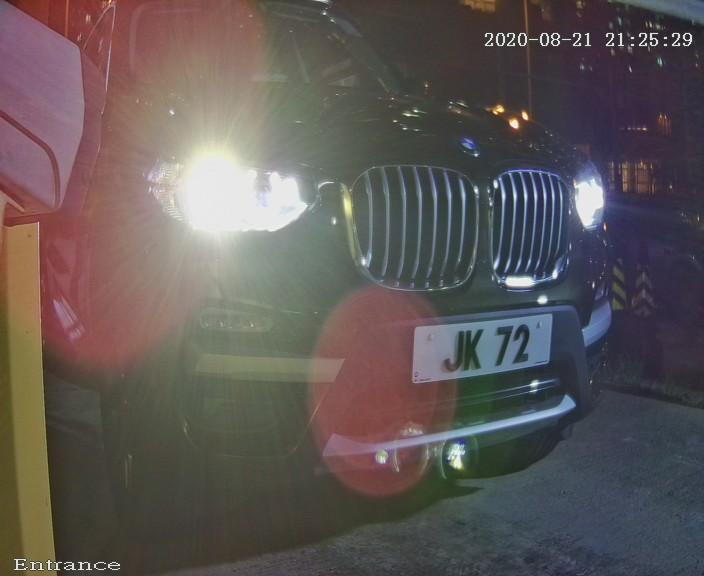Car: (4, 3, 689, 533)
License Plate: (409, 299, 560, 399)
